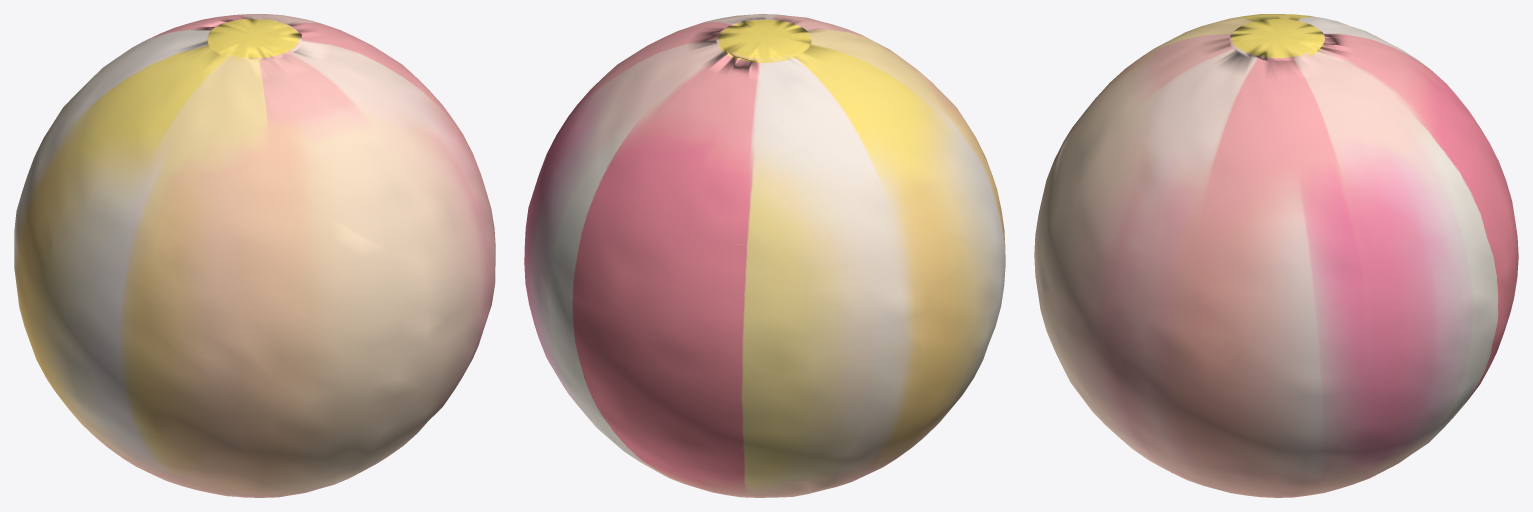
The model's file is beach-ball-v1-plain.fbx.
3 renders of one model, left to right at view 1: azimuth 30°, elevation 25°; view 2: azimuth 150°, elevation 25°; view 3: azimuth 270°, elevation 25°, orthographic.
Parts seen in each view (by area): view 1: Mesh_0; view 2: Mesh_0; view 3: Mesh_0.
Boxes of the visible parts, x1=… form: Mesh_0: x1=14, y1=14, x2=495, y2=497; Mesh_0: x1=524, y1=14, x2=1005, y2=497; Mesh_0: x1=1034, y1=14, x2=1518, y2=497.
Size of the model in its own units: 94.68 by 95.12 by 94.78.
1 material, 1 textured.
